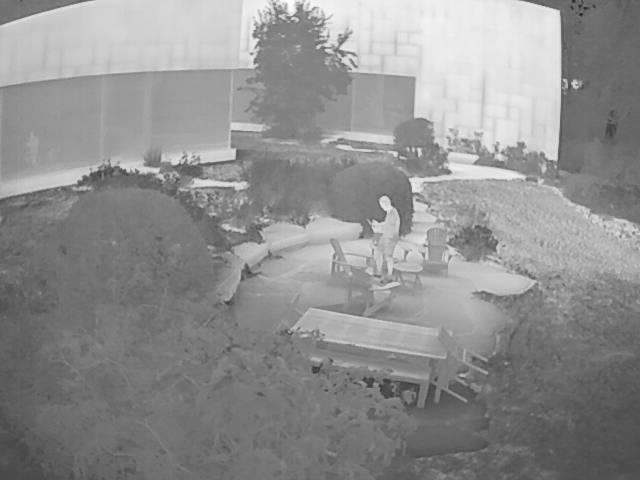person: (372, 194, 400, 285)
